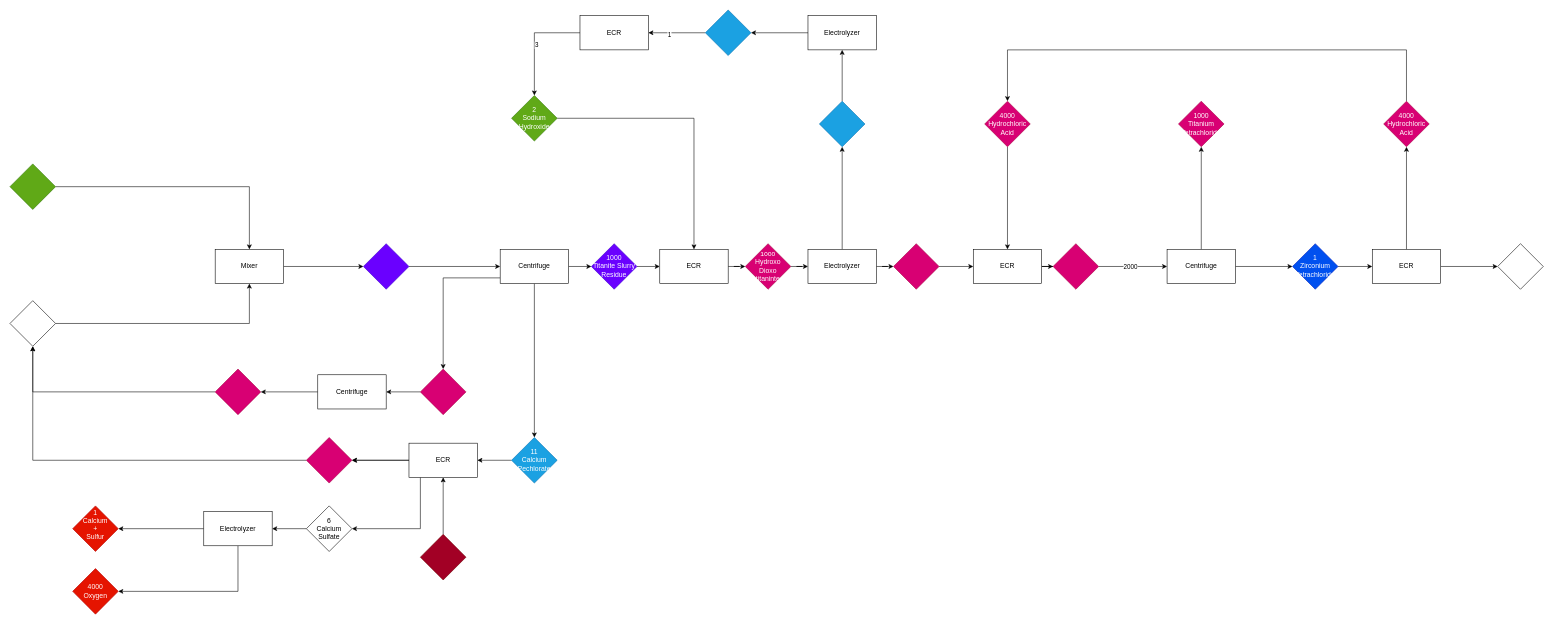
This 1553x624 diagram has some shape labels left out. The shapes that lost their labels are listed below. From the top down, each one's centre as x and y in pixels, then its label:
At (x=728, y=32): "2 Sodium".
At (x=842, y=124): "3 Sodium Oxide".
At (x=32, y=186): "1 Titanite Dust".
At (x=386, y=266): "1000 Titanite Slurry".
At (x=916, y=266): "1000 Titanite Residue".
At (x=1076, y=266): "1000 Titanium Tetrachloride Mixture".
At (x=1520, y=266): "1 Zerconium Dust".
At (x=32, y=323): "3000 Perchloric Acid".
At (x=238, y=392): "1000 Perchloric Acid".
At (x=443, y=392): "1000 Silica Gel".
At (x=329, y=460): "2000 Perchlorate acid".
At (x=443, y=557): "1000 Sulruric Acidf".
